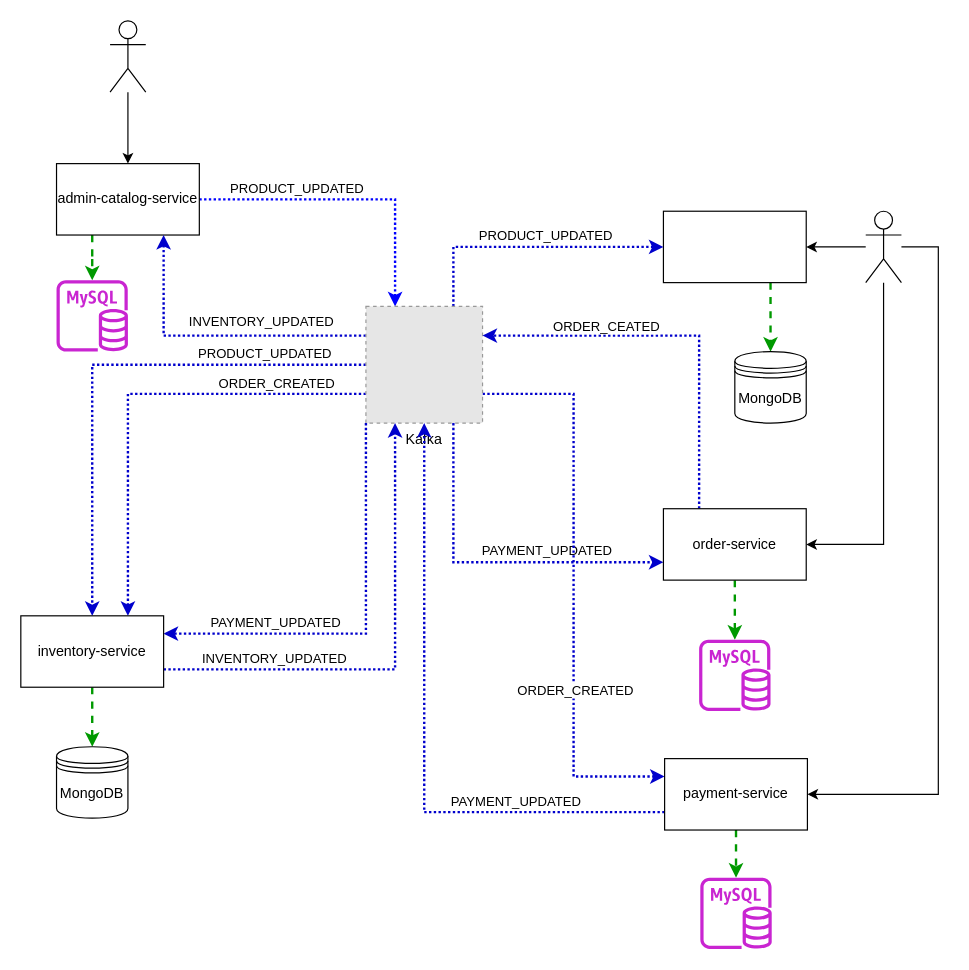
This 969x970 diagram has some shape labels left out. Grey dashed boxes stand in for pictures. The shapes that lost their labels are listed below. From the top down, each one's centre as x and y in pixels, then its label:
At point 127,56: "Administrator".
At point 734,246: "catalog-nosql-service".
At point 883,246: "User".
